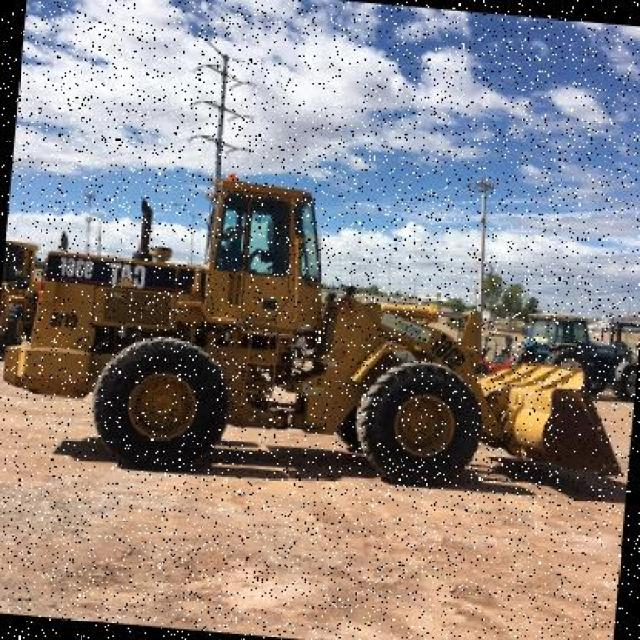buldozerpayloadergrader: (1, 155, 640, 522)
